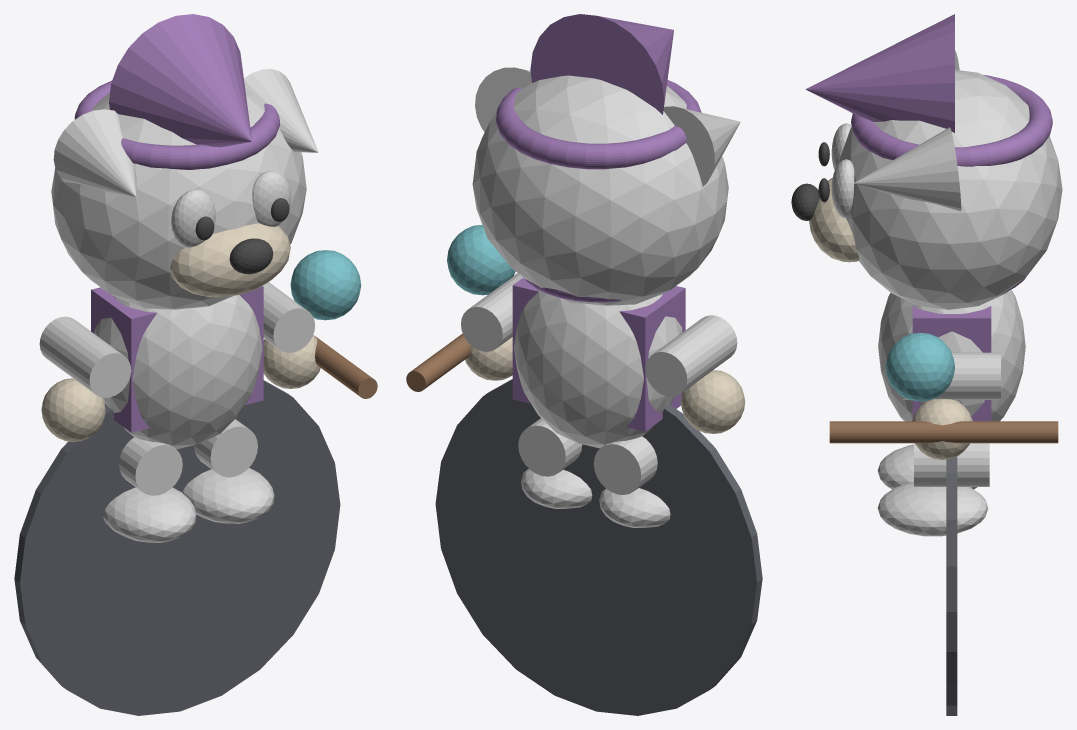
Rendered from Mio_Prototype_V1.glb.
The picture shows the model from 3 angles, left to right: view 1: azimuth 30°, elevation 25°; view 2: azimuth 150°, elevation 25°; view 3: azimuth 270°, elevation 25°; orthographic projection. The views are drawn at different scales.
Visible parts, largest first — view 1: Base, Head, Body, WizardHat, Muzzle, Ear_-1, Arm_-1, HatBrim, Robe, Foot_-1, Orb, Foot_1 (+10 smaller); view 2: Base, Head, Body, WizardHat, HatBrim, Arm_-1, Robe, Orb, Hand_-1, Leg_-1, Ear_-1, Arm_1 (+6 smaller); view 3: Head, WizardHat, Body, Staff, HatBrim, Ear_1, Foot_1, Orb, Base, Robe, Arm_1, Leg_1 (+6 smaller).
Boxes of the visible parts, x1,y1,x2,y2 form: Base: (14, 380, 340, 715); Head: (51, 86, 306, 309); Body: (94, 295, 262, 449); WizardHat: (109, 14, 251, 147); Muzzle: (170, 223, 290, 297); Ear_-1: (53, 109, 136, 196); Arm_-1: (39, 316, 131, 397); HatBrim: (74, 80, 279, 169); Robe: (91, 286, 263, 432); Foot_-1: (103, 487, 196, 542); Orb: (290, 250, 361, 320); Foot_1: (182, 468, 274, 523); Base: (435, 379, 762, 715); Head: (472, 75, 728, 305); Body: (513, 288, 682, 448); WizardHat: (530, 14, 673, 114); HatBrim: (496, 80, 701, 169); Arm_-1: (645, 315, 737, 396); Robe: (512, 277, 685, 431); Orb: (447, 225, 515, 295); Hand_-1: (680, 370, 745, 433); Leg_-1: (593, 436, 657, 494); Ear_-1: (663, 106, 740, 186); Arm_1: (461, 273, 522, 351); Head: (839, 70, 1062, 309); WizardHat: (805, 14, 954, 132); Body: (878, 289, 1025, 421); Staff: (829, 421, 1058, 443); HatBrim: (851, 74, 1052, 166); Ear_1: (854, 127, 961, 211); Foot_1: (877, 482, 988, 536); Orb: (885, 332, 954, 401); Base: (946, 456, 957, 715); Robe: (912, 306, 991, 421); Arm_1: (903, 352, 1000, 399); Leg_1: (914, 443, 989, 486).
Size of the model in its own units: 2.32 by 4.75 by 1.72.
